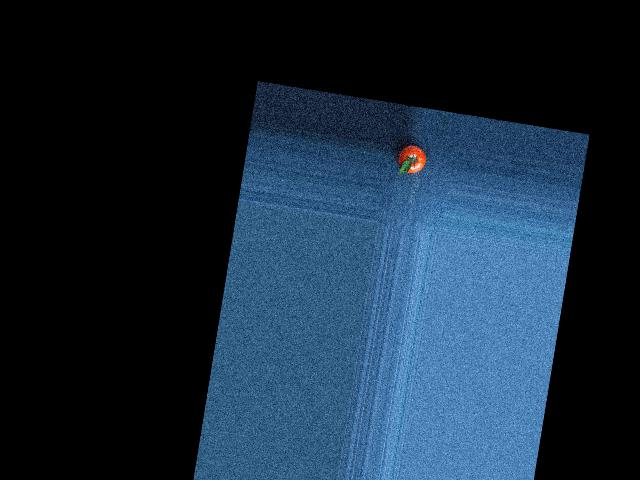tomato: (396, 143, 427, 175)
